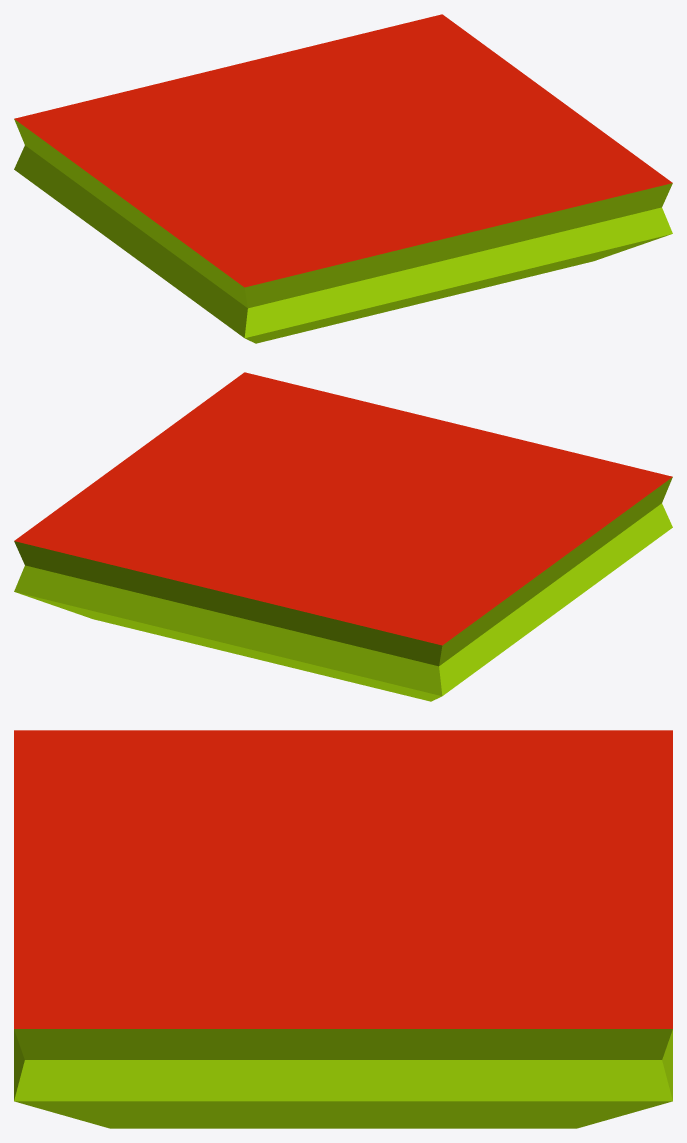
The model's file is Ob_AL_Platform.fbx.
3 views of the same model, one above another, from view 1: azimuth 30°, elevation 25°; view 2: azimuth 150°, elevation 25°; view 3: azimuth 270°, elevation 25° (orthographic). The views are drawn at different scales.
Visible parts, largest first — view 1: Cube.021; view 2: Cube.021; view 3: Cube.021.
Boxes of the visible parts, box(x1,y1,x2,y2) form: Cube.021: box(14, 14, 672, 343); Cube.021: box(14, 372, 672, 701); Cube.021: box(14, 730, 672, 1128).
Size of the model in its own units: 1851 by 380 by 1726.
